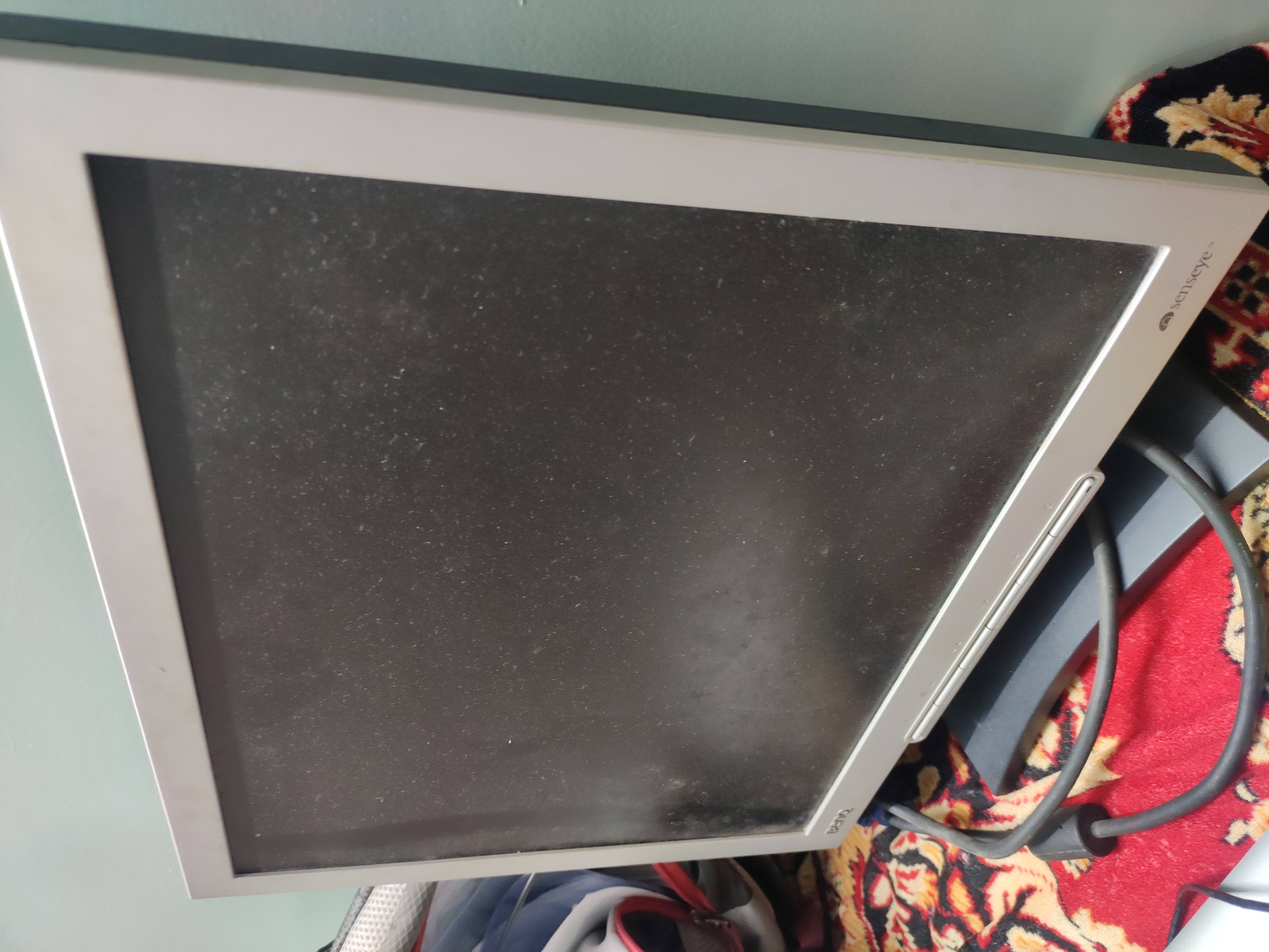Electronics: (2, 9, 1269, 908)
